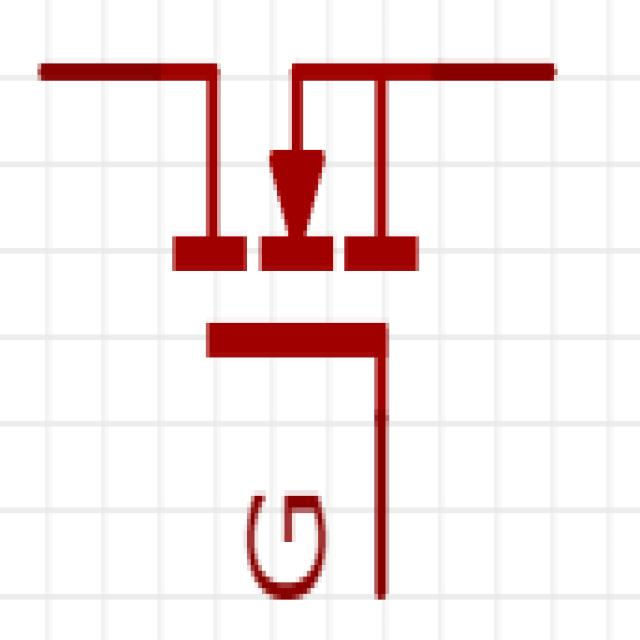nmos: (20, 37, 561, 621)
